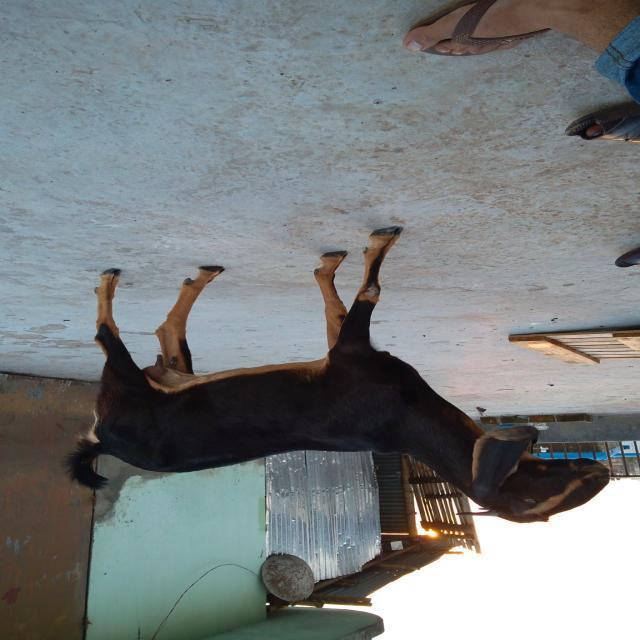Goat: (62, 226, 612, 525)
